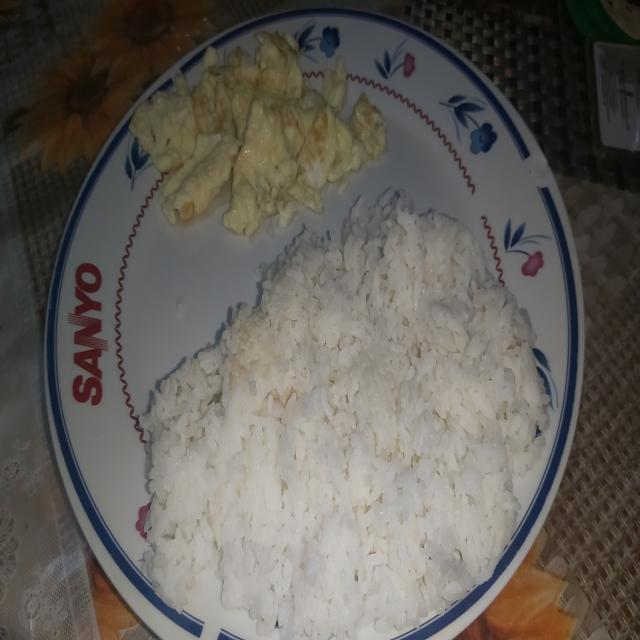Chicken -Chicken Inasal-: (155, 228, 527, 619)
